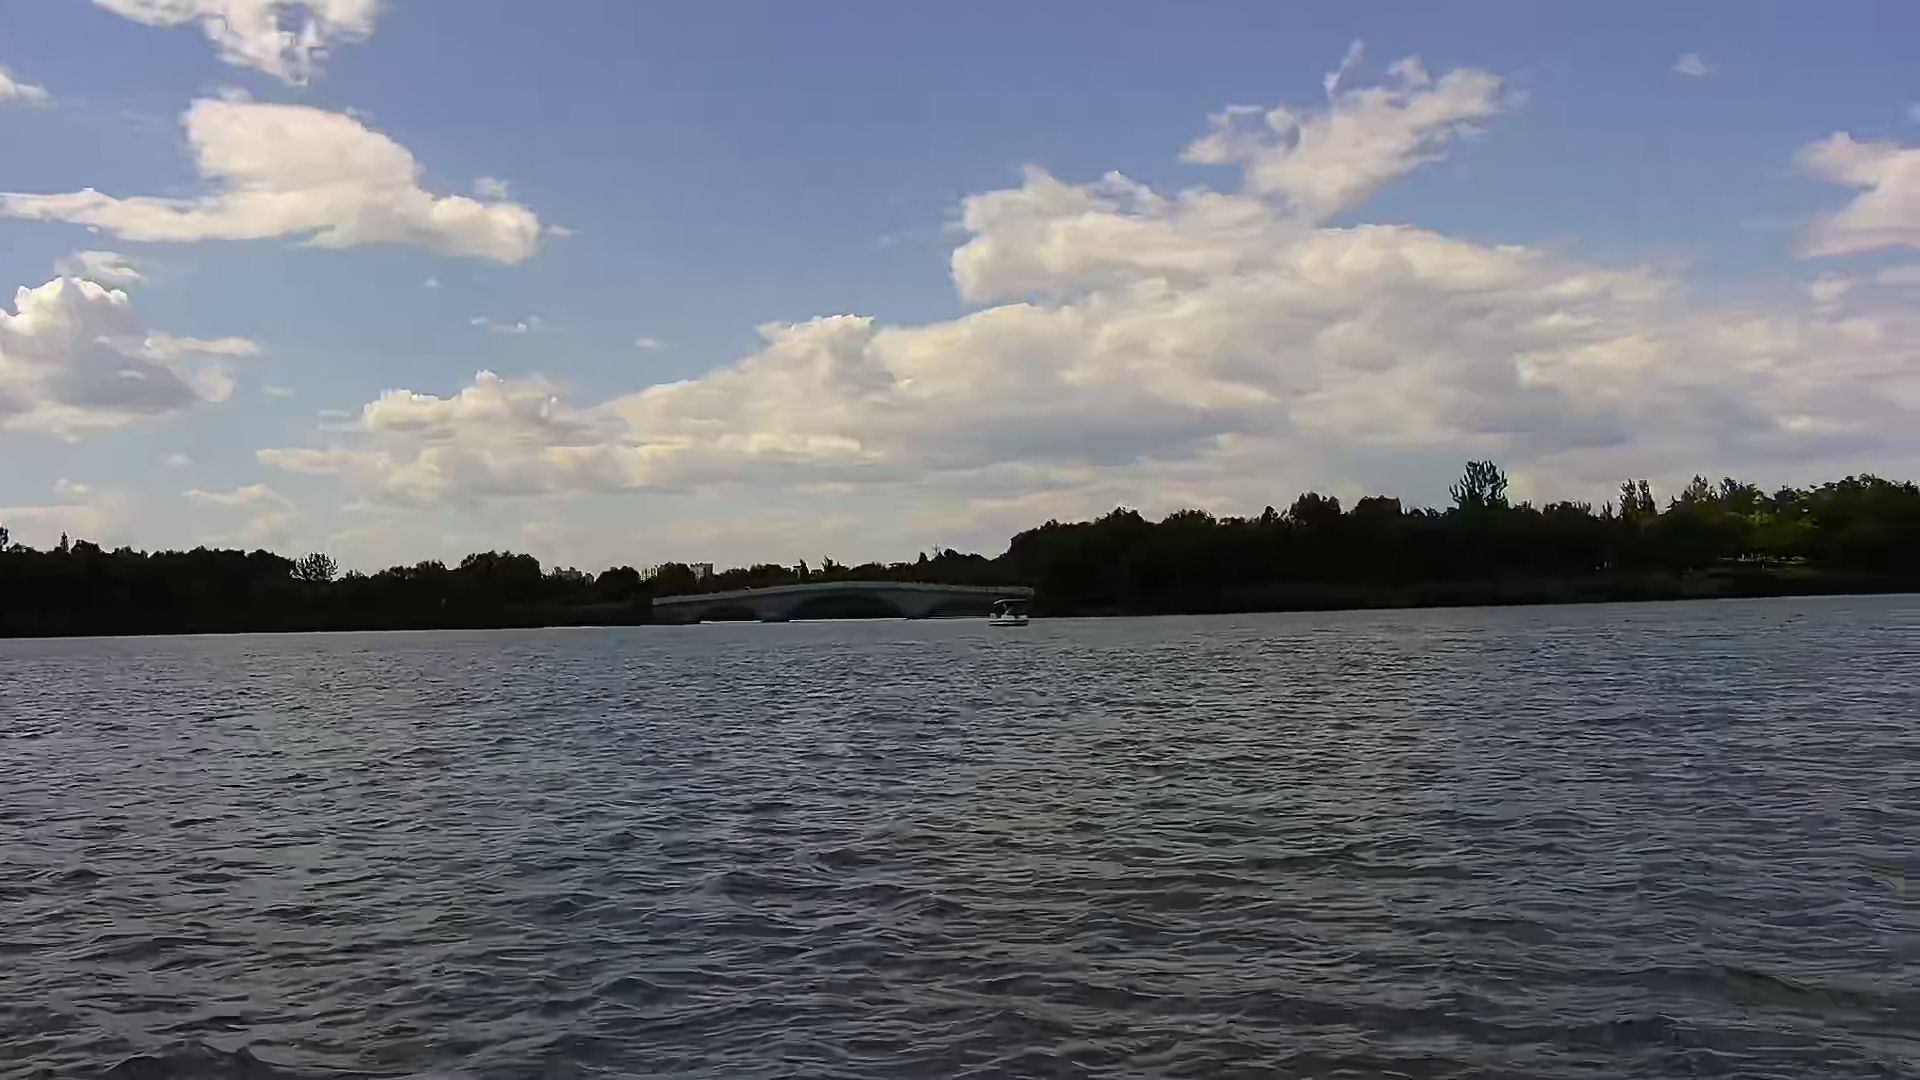boat: (986, 597, 1026, 626)
bridge: (653, 580, 1030, 625)
